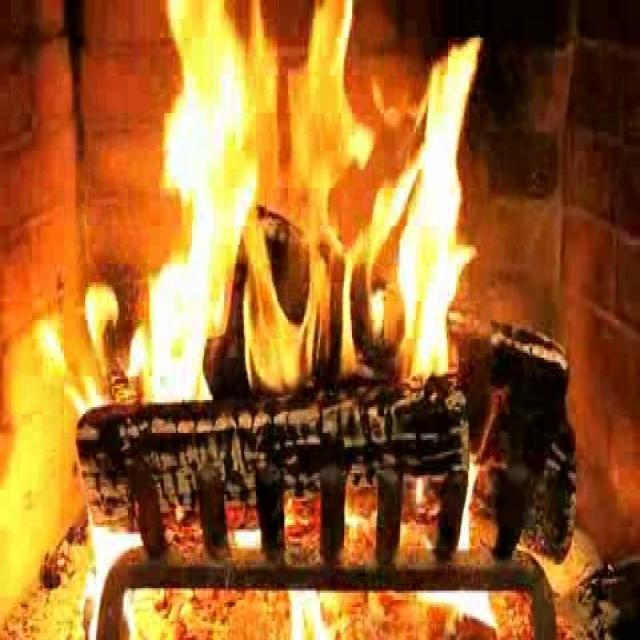fire: (133, 7, 474, 427)
